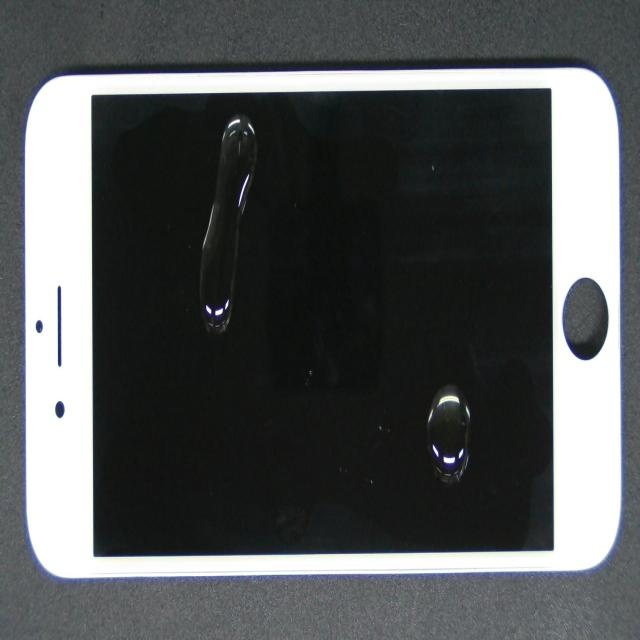oil: (251, 221, 640, 597), (129, 123, 384, 232)
